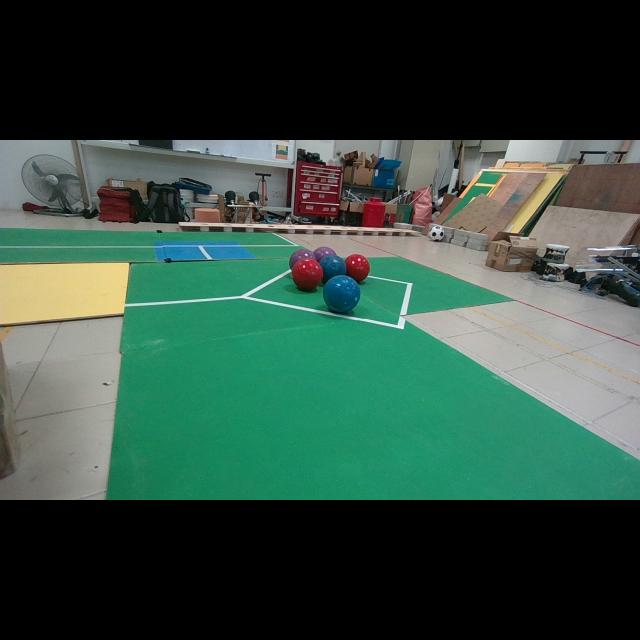B: (322, 275, 361, 313), (320, 255, 346, 283)
P: (289, 249, 316, 269), (314, 246, 336, 261)
R: (291, 259, 324, 291), (345, 254, 370, 282)
